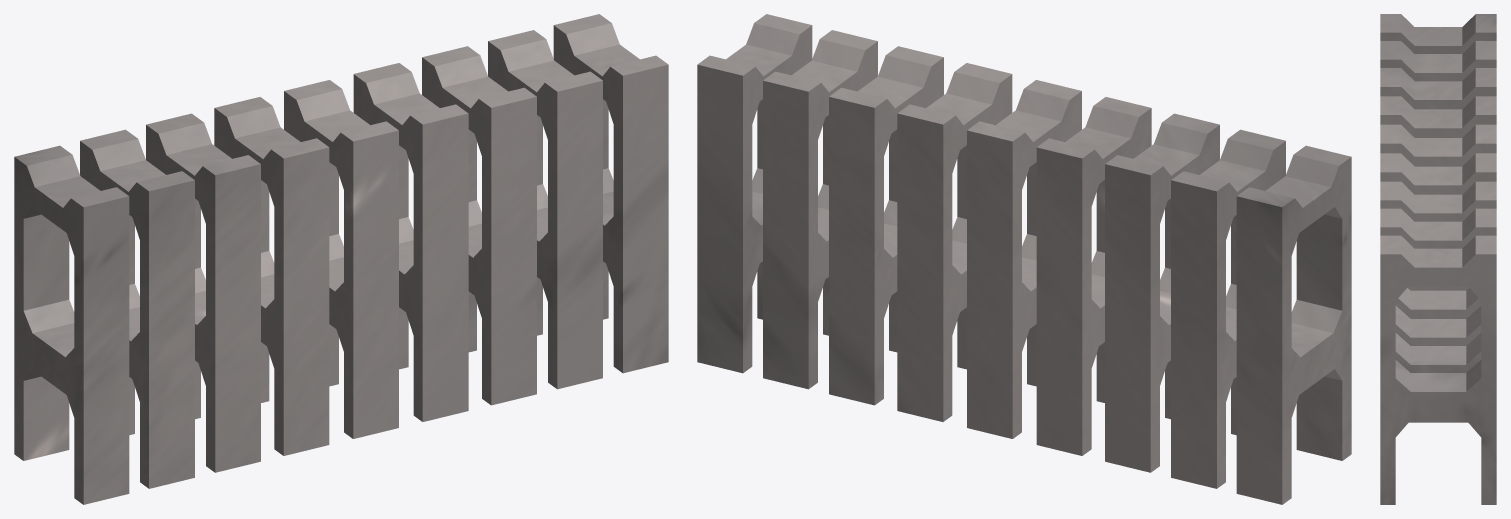
Rendered from Wall_City_2.fbx.
3 renders of one model, left to right at view 1: azimuth 30°, elevation 25°; view 2: azimuth 150°, elevation 25°; view 3: azimuth 270°, elevation 25°, orthographic. The views are drawn at different scales.
Parts seen in each view (by area): view 1: Cube.150; view 2: Cube.150; view 3: Cube.150.
Part boxes in pixels (x1,y1,x2,y2): Cube.150: (14,14,668,504); Cube.150: (697,14,1351,504); Cube.150: (1380,14,1496,504).
Size of the model in its own units: 1 by 0.486 by 0.2048.
